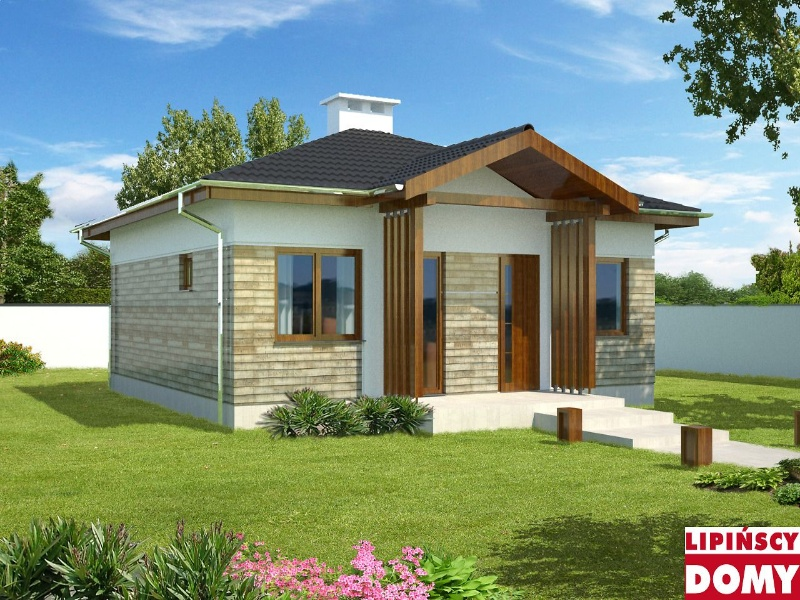window: (269, 244, 362, 337), (495, 252, 540, 316), (592, 260, 628, 327)
